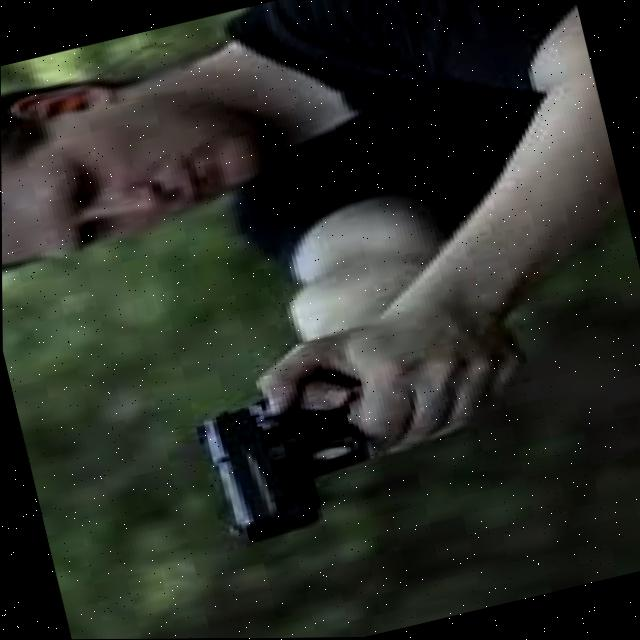pistol: (188, 381, 379, 549)
